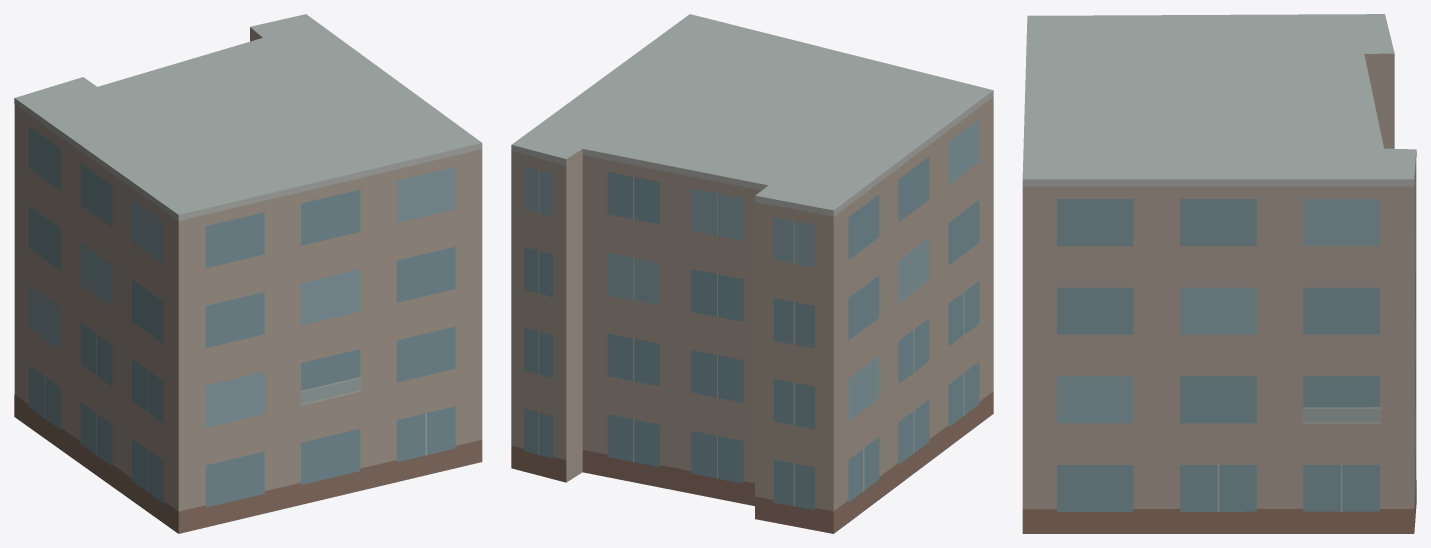
File: survey-upis-32472517.glb
3 renders of one model, left to right at view 1: azimuth 30°, elevation 25°; view 2: azimuth 150°, elevation 25°; view 3: azimuth 270°, elevation 25°, orthographic. The views are drawn at different scales.
Visible parts, largest first — view 1: survey-upis-32472517.tmp; view 2: survey-upis-32472517.tmp; view 3: survey-upis-32472517.tmp.
Boxes of the visible parts, left/top/right/bottom form: survey-upis-32472517.tmp: left=14, top=14, right=482, bottom=533; survey-upis-32472517.tmp: left=511, top=14, right=993, bottom=533; survey-upis-32472517.tmp: left=1022, top=14, right=1416, bottom=533.
Bounding box in the file's own units: 12.59 × 12.55 × 12.64.
